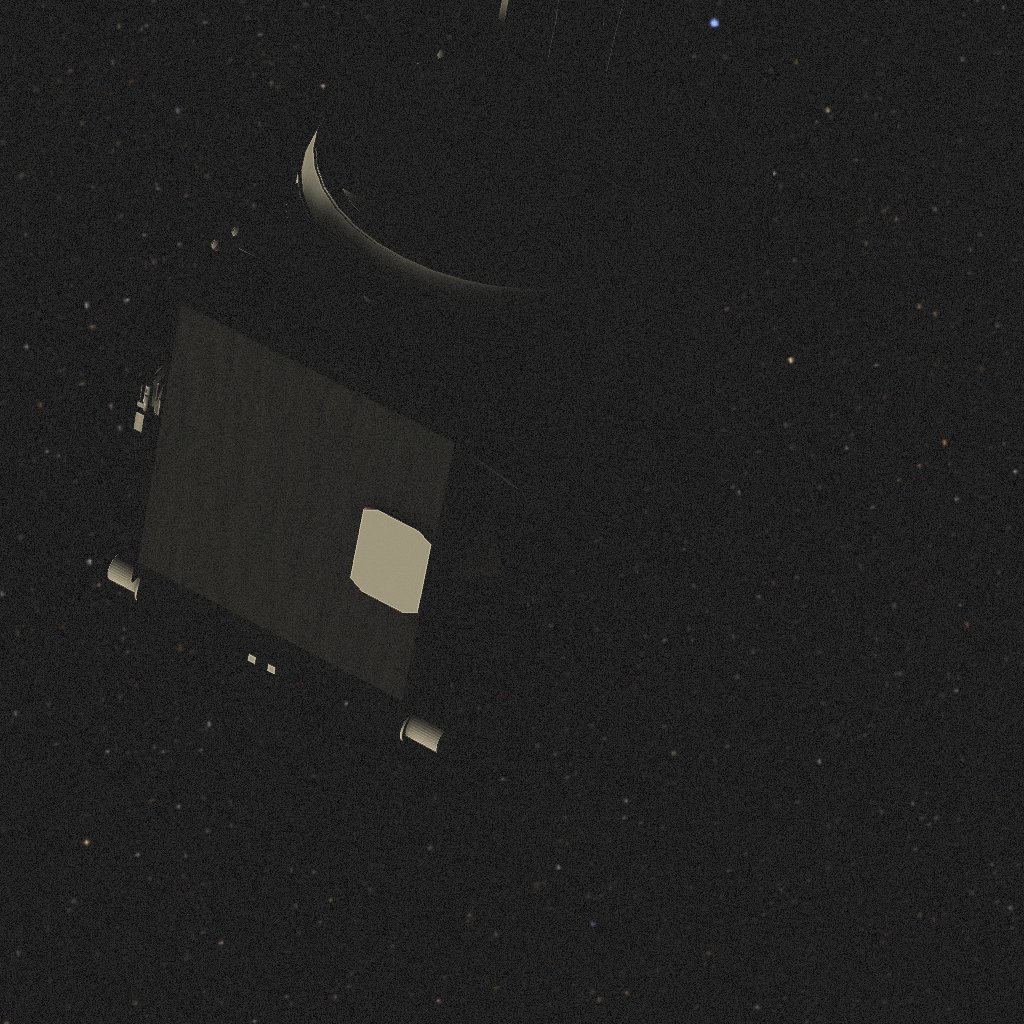proba_3_csc: (108, 0, 778, 753)
